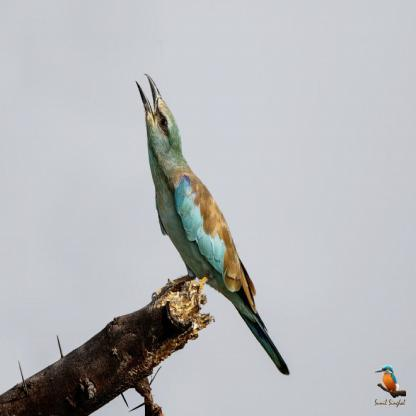Burung: (134, 72, 290, 376)
